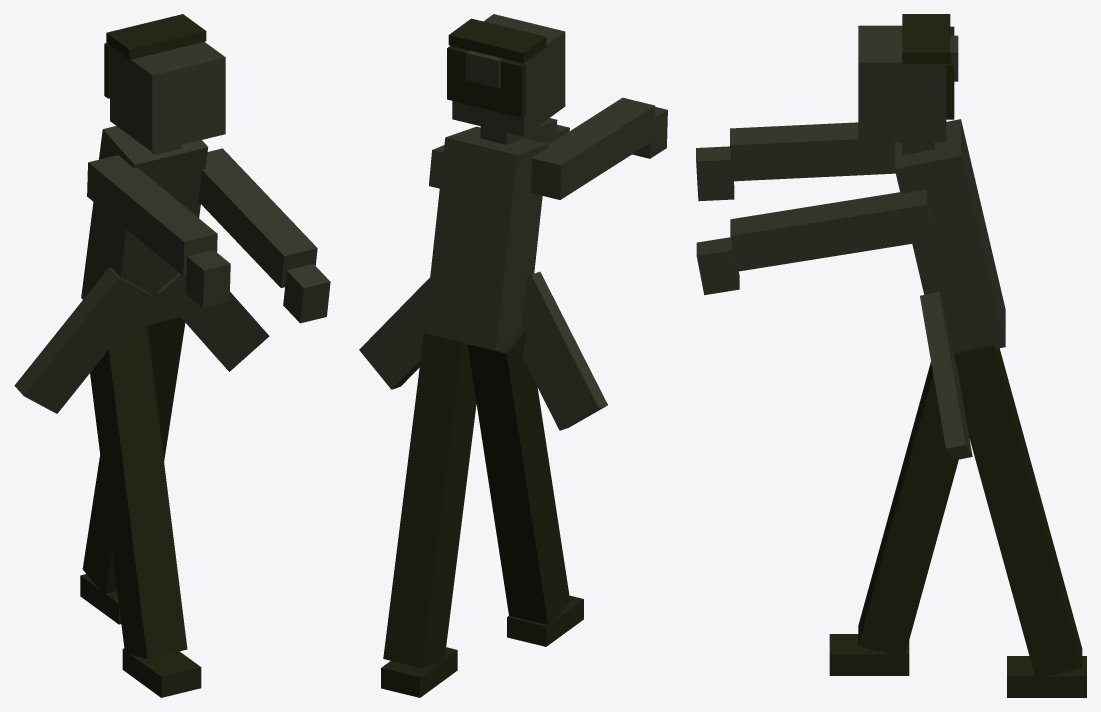
Rendered from SM_Zombi_v3_Civil_LOD1.fbx.
3 renders of one model, left to right at view 1: azimuth 30°, elevation 25°; view 2: azimuth 150°, elevation 25°; view 3: azimuth 270°, elevation 25°, orthographic. The views are drawn at different scales.
Parts seen in each view (by area): view 1: SM_zombi_fino_v3_LOD1; view 2: SM_zombi_fino_v3_LOD1; view 3: SM_zombi_fino_v3_LOD1.
Part boxes in pixels (x1,y1,x2,y2): SM_zombi_fino_v3_LOD1: (14, 14, 330, 697); SM_zombi_fino_v3_LOD1: (359, 14, 667, 697); SM_zombi_fino_v3_LOD1: (696, 14, 1086, 697).
Size of the model in its own units: 0.7366 by 1.78 by 0.9796.
